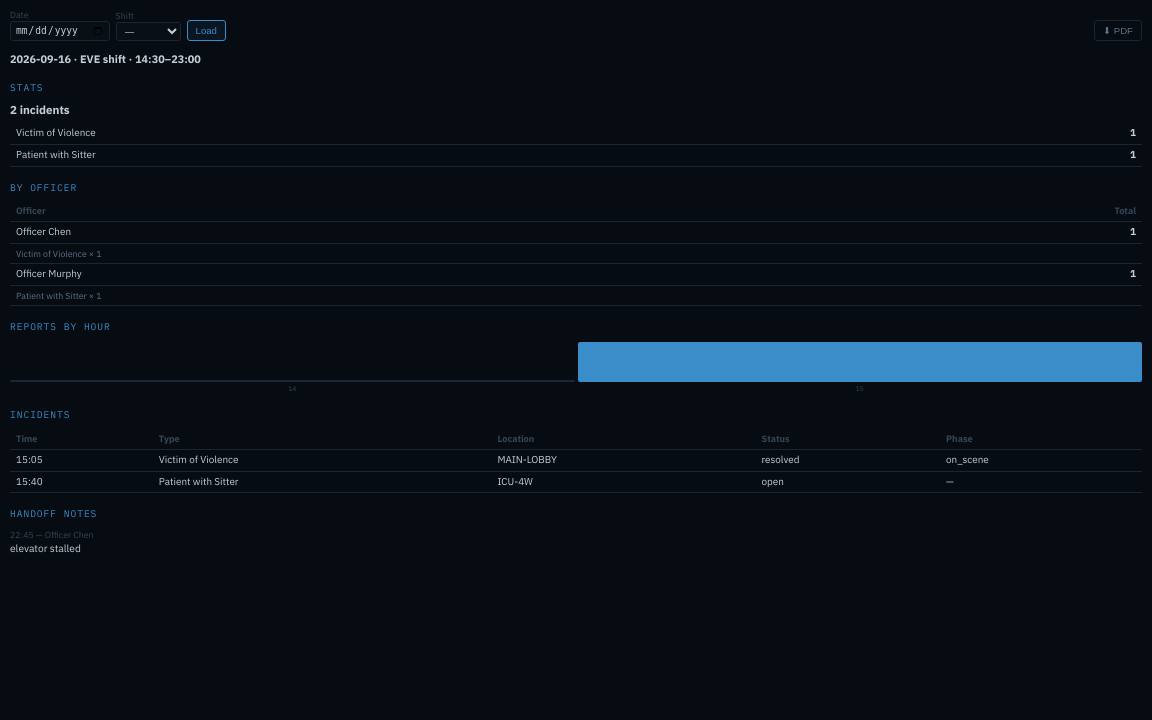
Test: ShiftReportView › toggles incident description on row click
Expected: the text "long detail text" is not shown
Click the text "MAIN-LOBBY" at (576, 460), box [10,449,1142,471]
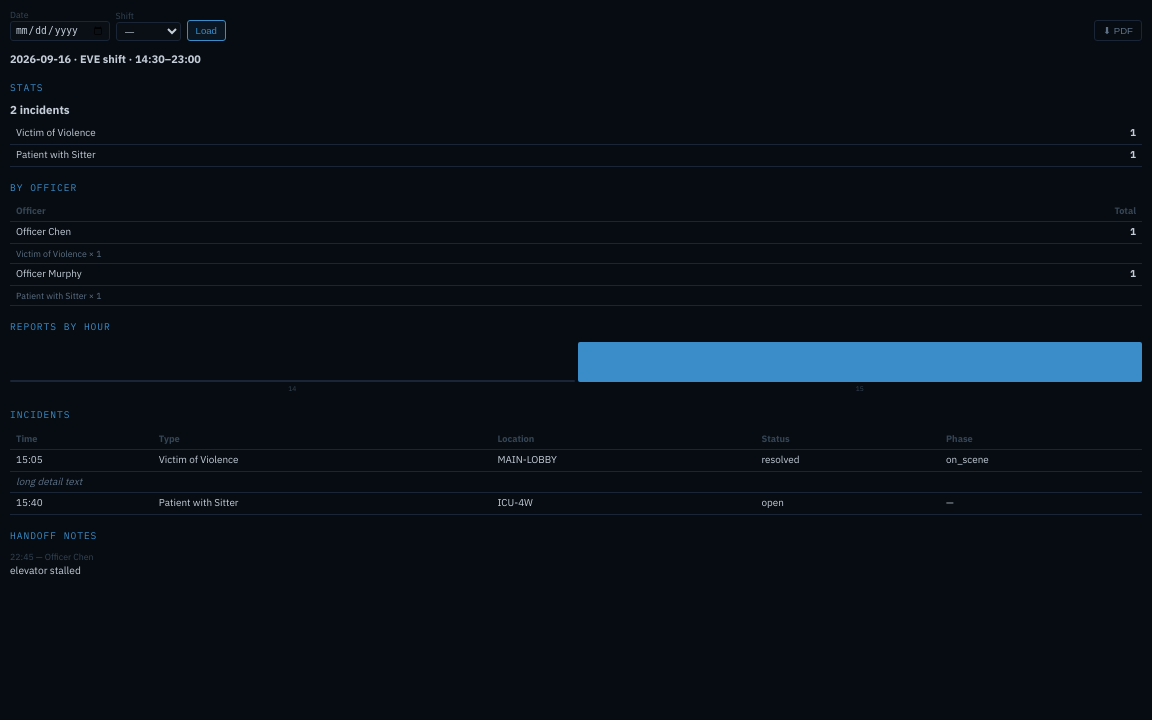
Expected: the text "long detail text" is shown, [16,474,82,488]
